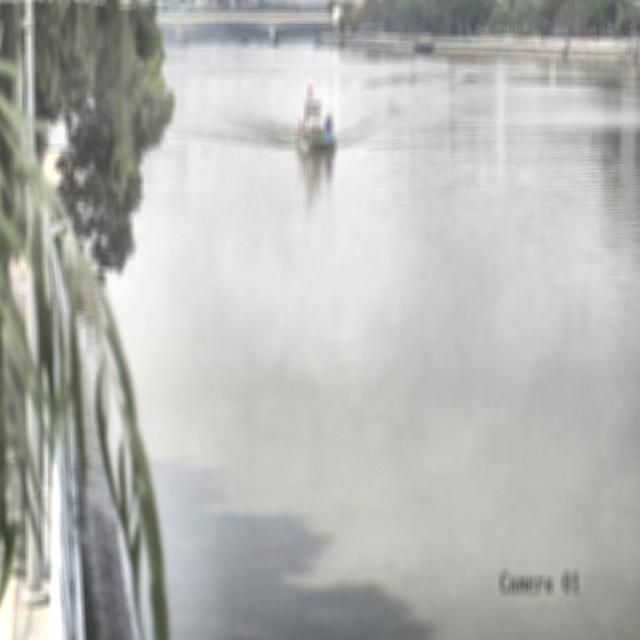ship: (296, 82, 336, 154), (242, 35, 249, 44)
